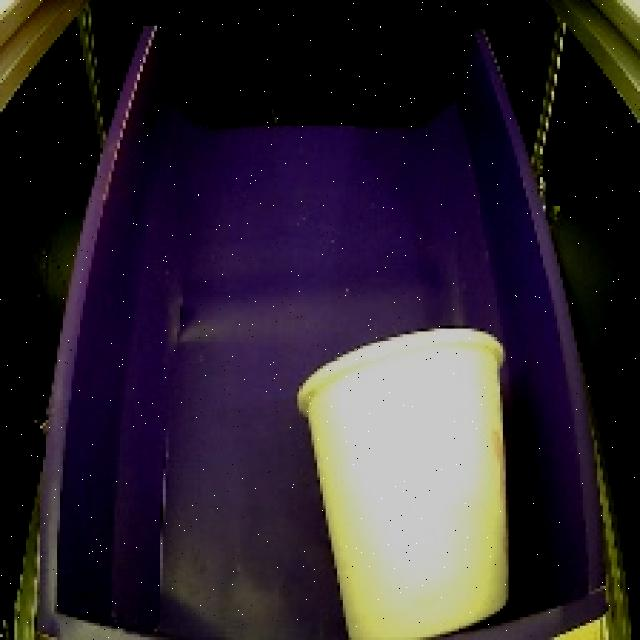cups: (292, 310, 534, 640)
